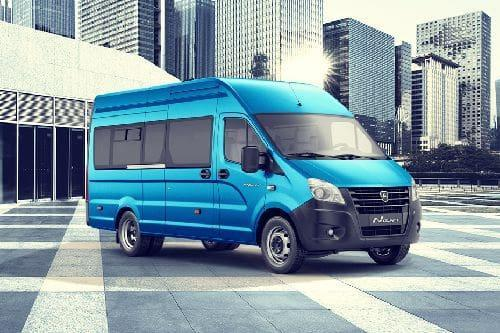car: (85, 74, 421, 274)
